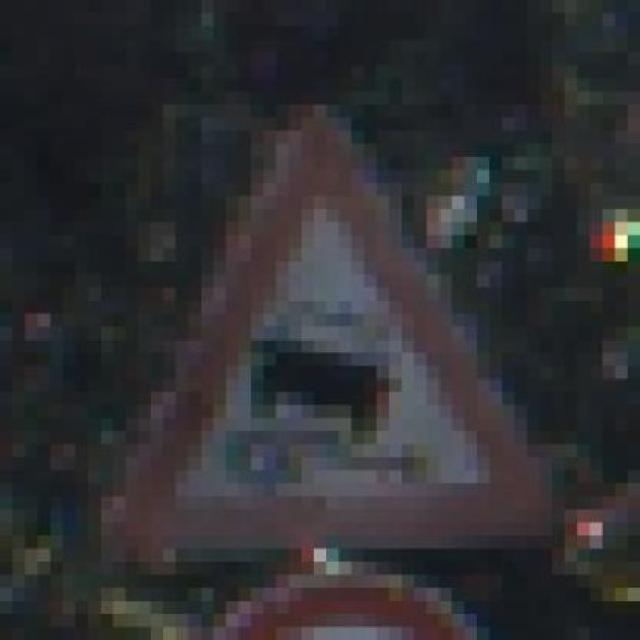Slippery Road Ahead: (100, 90, 565, 562)
